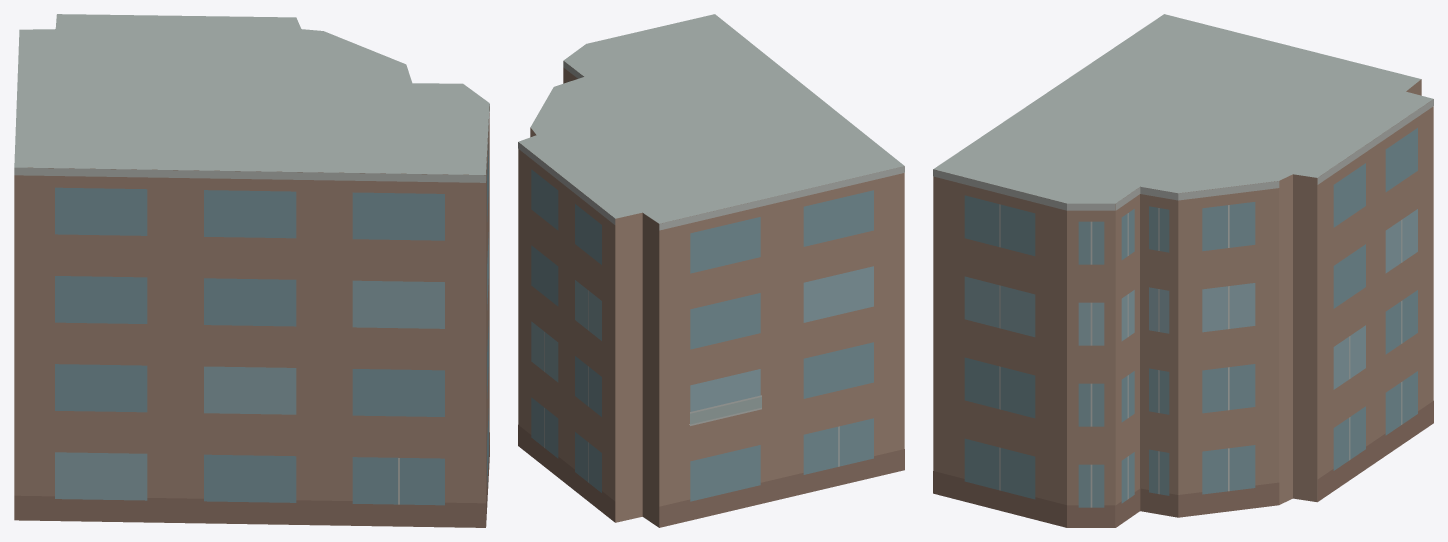
The model's file is survey-upis-32678736.glb.
3 renders of one model, left to right at view 1: azimuth 30°, elevation 25°; view 2: azimuth 150°, elevation 25°; view 3: azimuth 270°, elevation 25°, orthographic. The views are drawn at different scales.
Parts seen in each view (by area): view 1: survey-upis-32678736.tmp; view 2: survey-upis-32678736.tmp; view 3: survey-upis-32678736.tmp.
Boxes of the visible parts, box(x1,y1,x2,y2) form: survey-upis-32678736.tmp: box(14, 14, 489, 527); survey-upis-32678736.tmp: box(518, 14, 904, 527); survey-upis-32678736.tmp: box(933, 14, 1433, 527).
Bounding box in the file's own units: 13.74 × 10.95 × 15.33.
